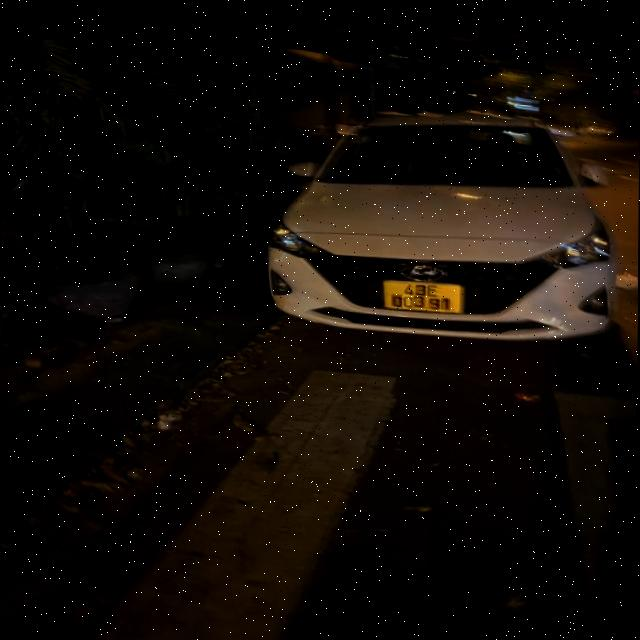car: (262, 88, 629, 367)
plate: (375, 273, 471, 323)
